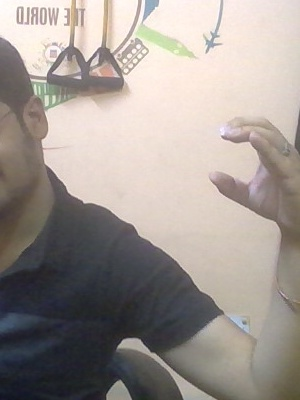C: (206, 97, 300, 250)
